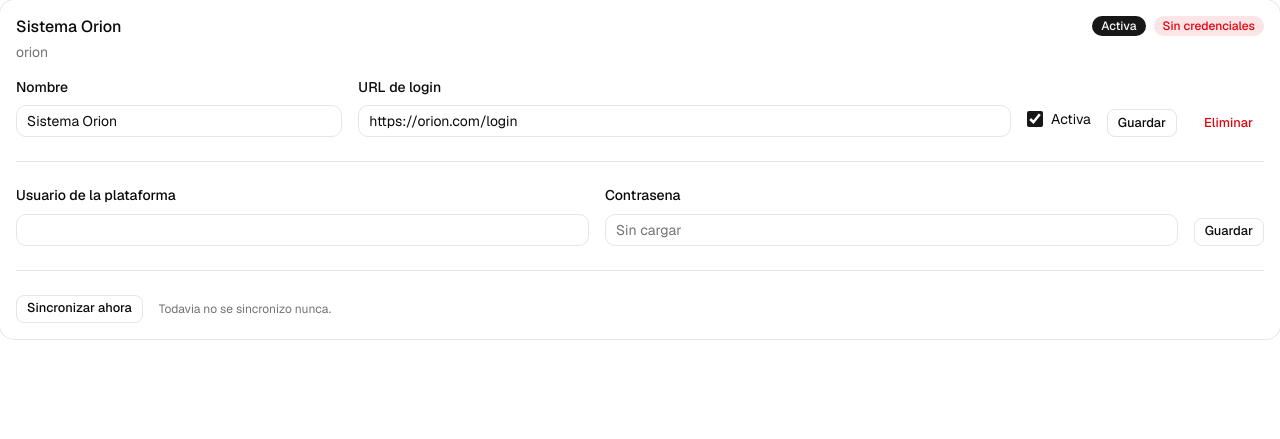
Test case: editar muestra los errores de nombre y url
Step 1. Click the 1st button "Guardar" → (1142, 123), box x1=1107 y1=109 x2=1177 y2=137
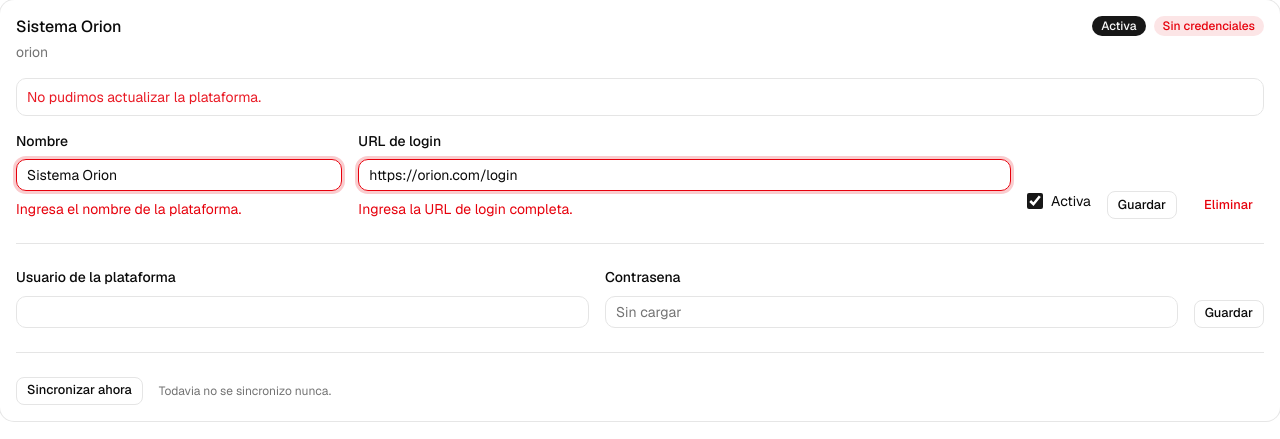
Now the text "No pudimos actualizar la plataforma." is shown, box x1=27 y1=88 x2=261 y2=106
